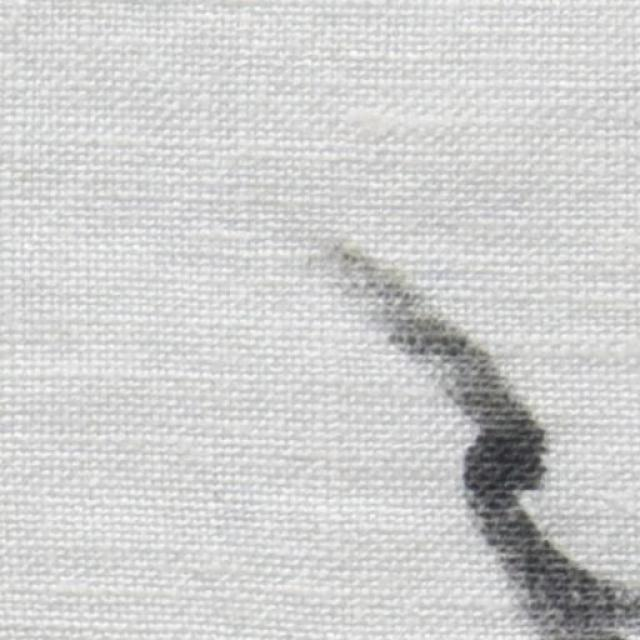Stain: (330, 245, 640, 639)
